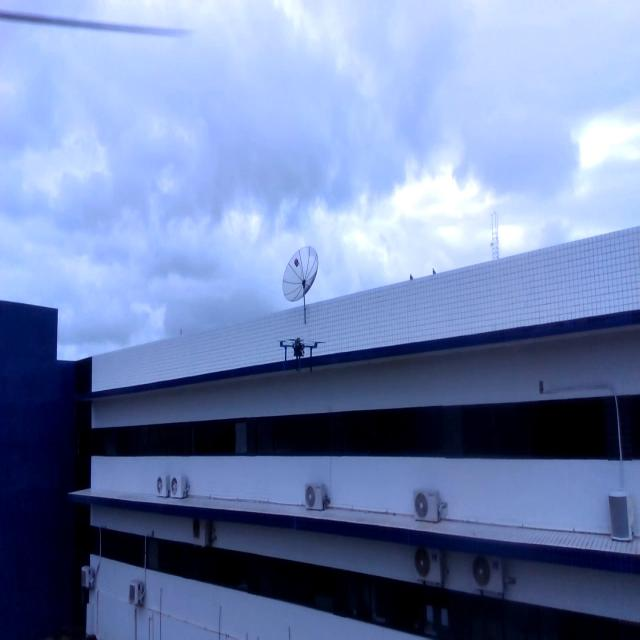-uav-: (274, 321, 331, 381)
